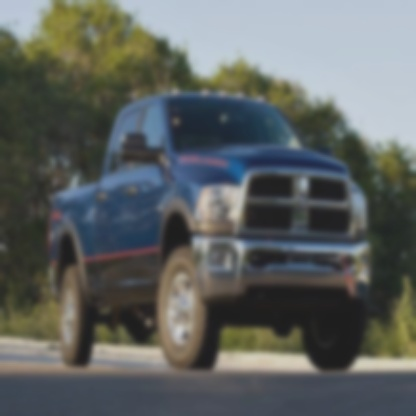Vehicle: (48, 92, 371, 375)
